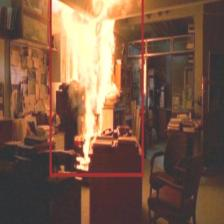fire: (49, 0, 143, 175)
